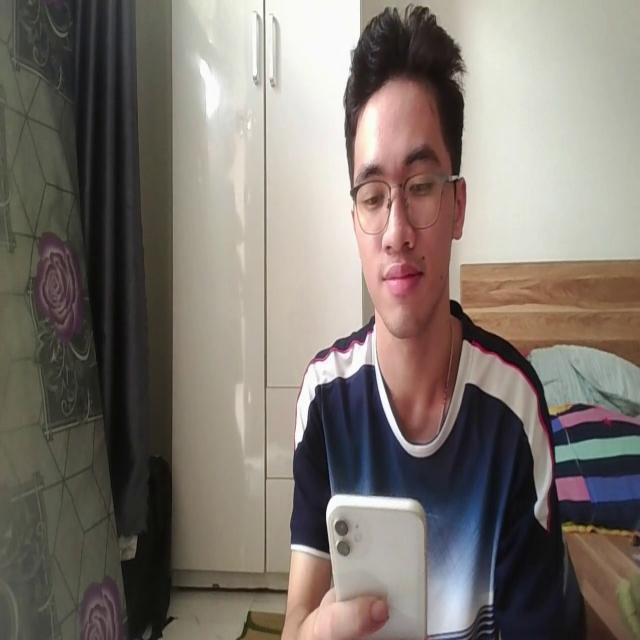phone: (321, 471, 433, 640)
student: (288, 6, 568, 640)
